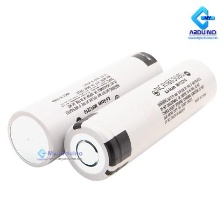battery: (61, 56, 218, 182), (4, 48, 165, 169)
